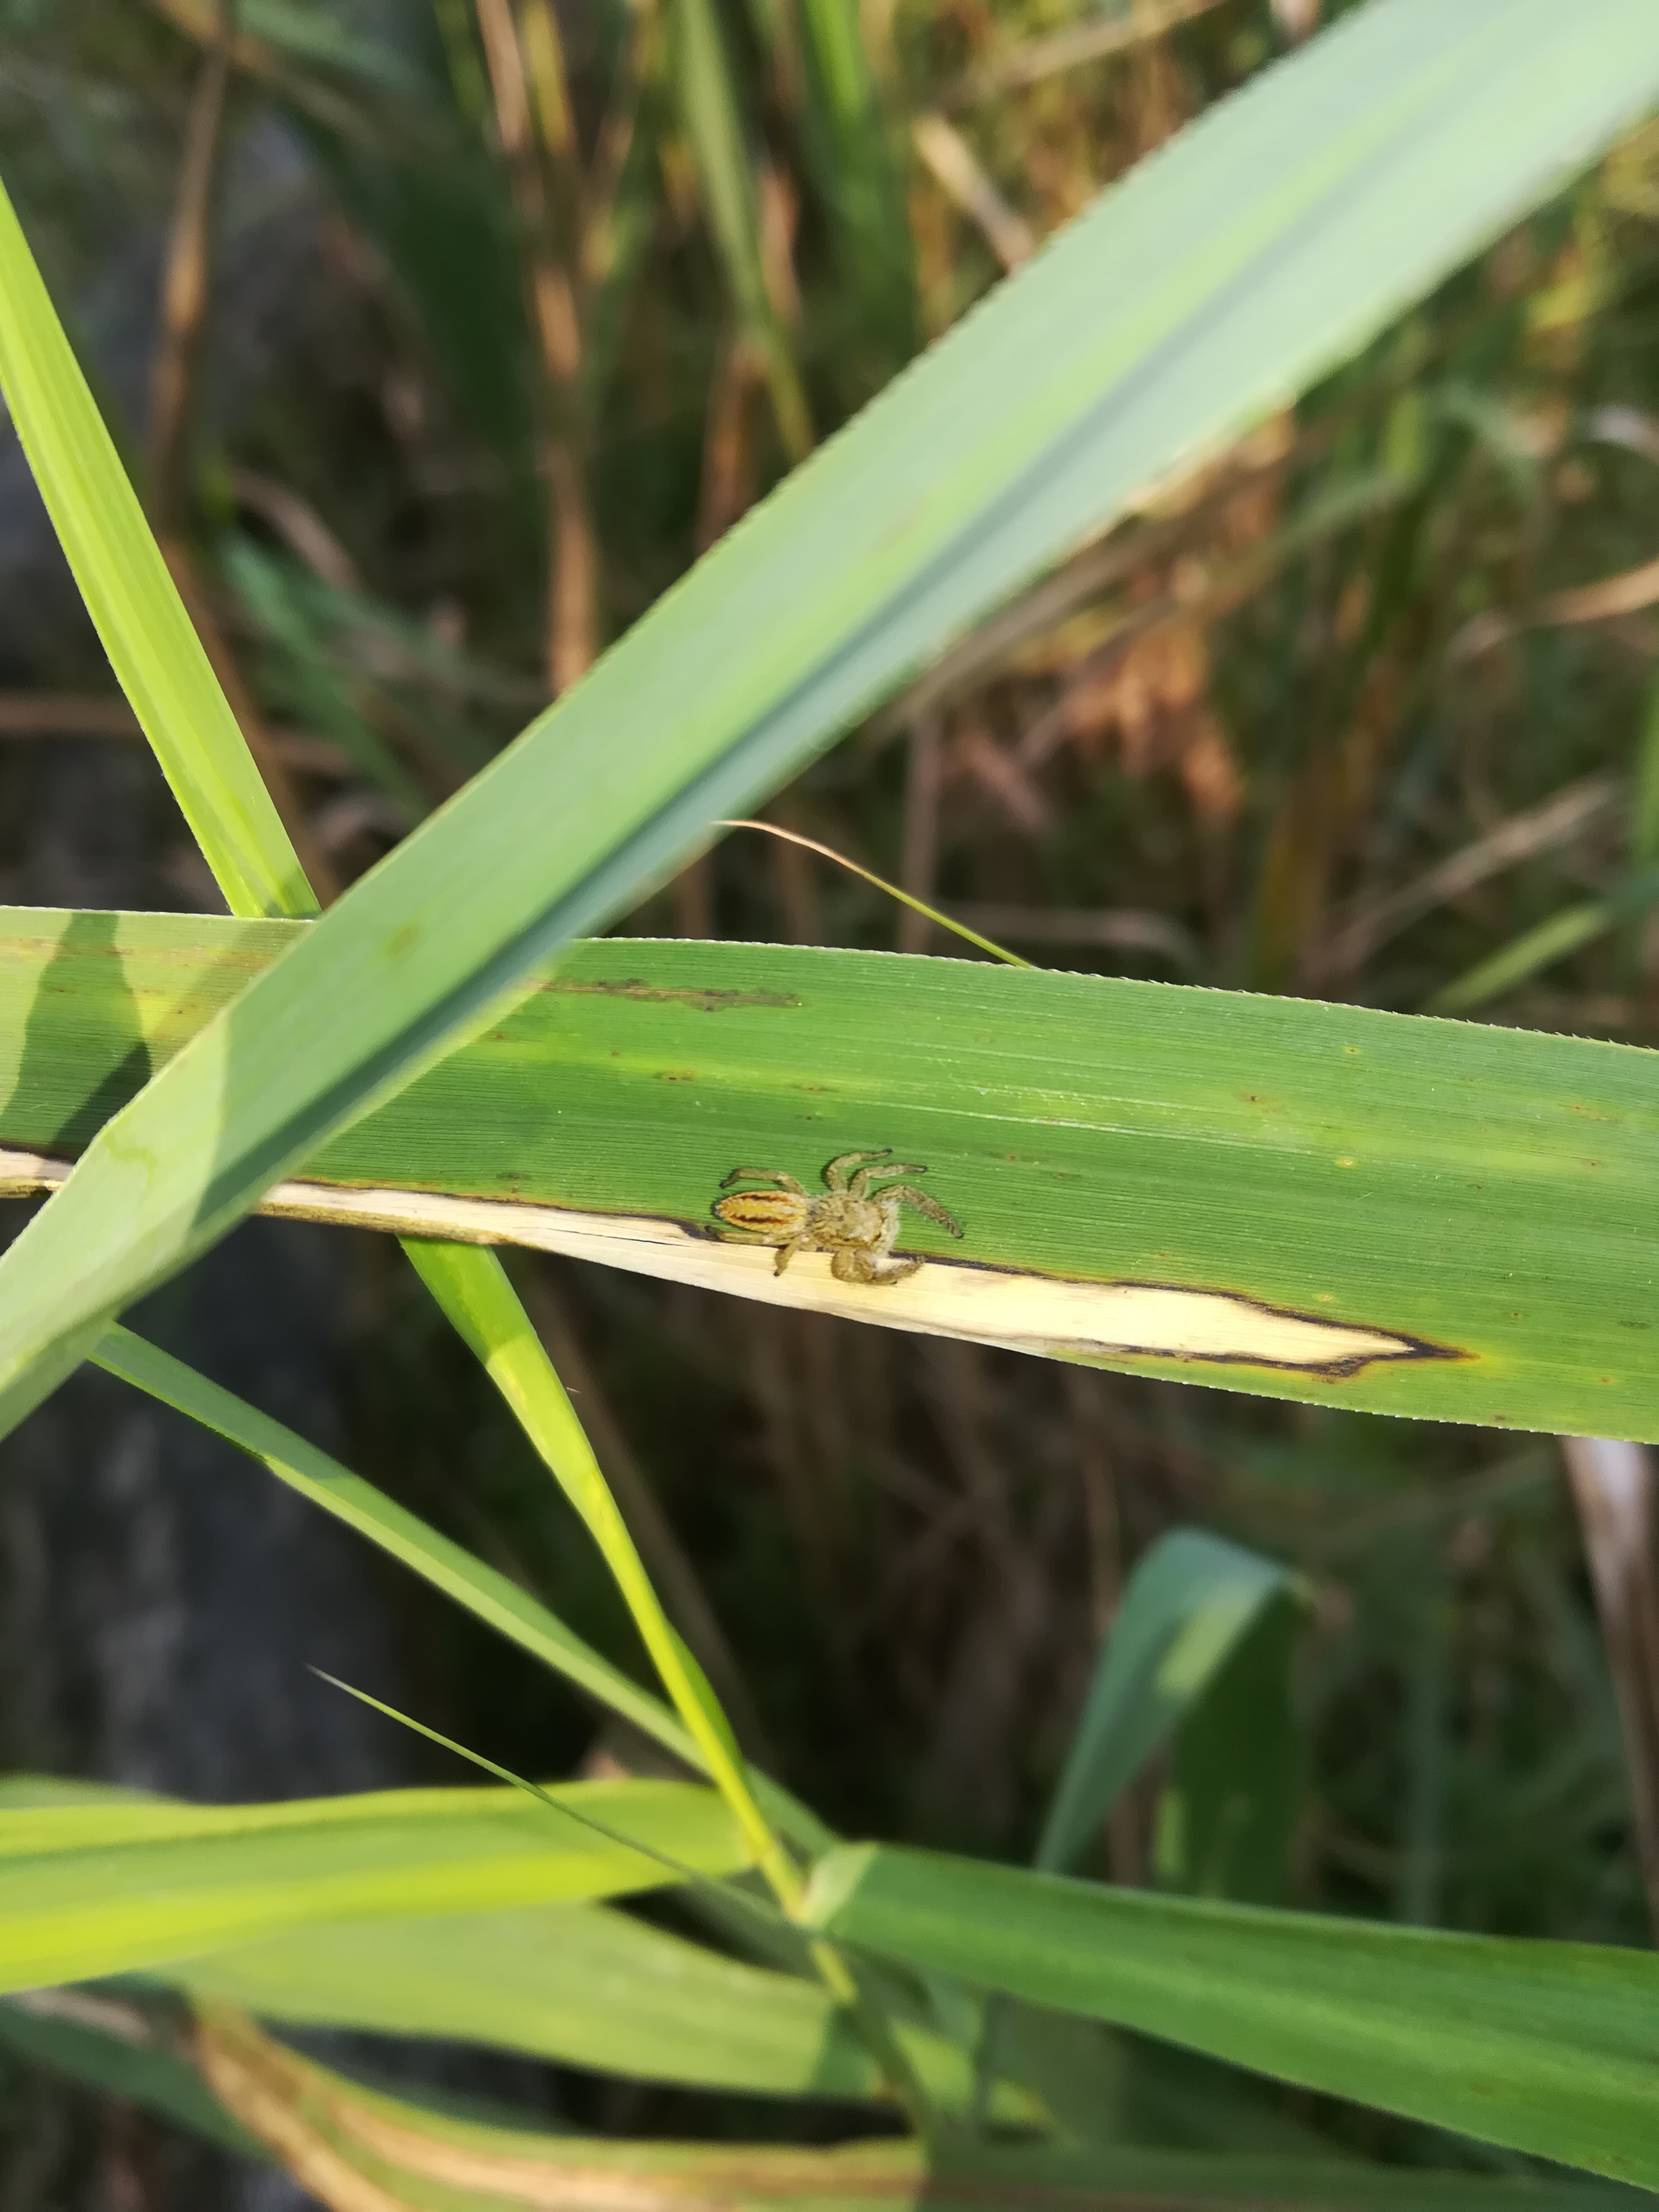spider: (664, 1073, 999, 1381)
